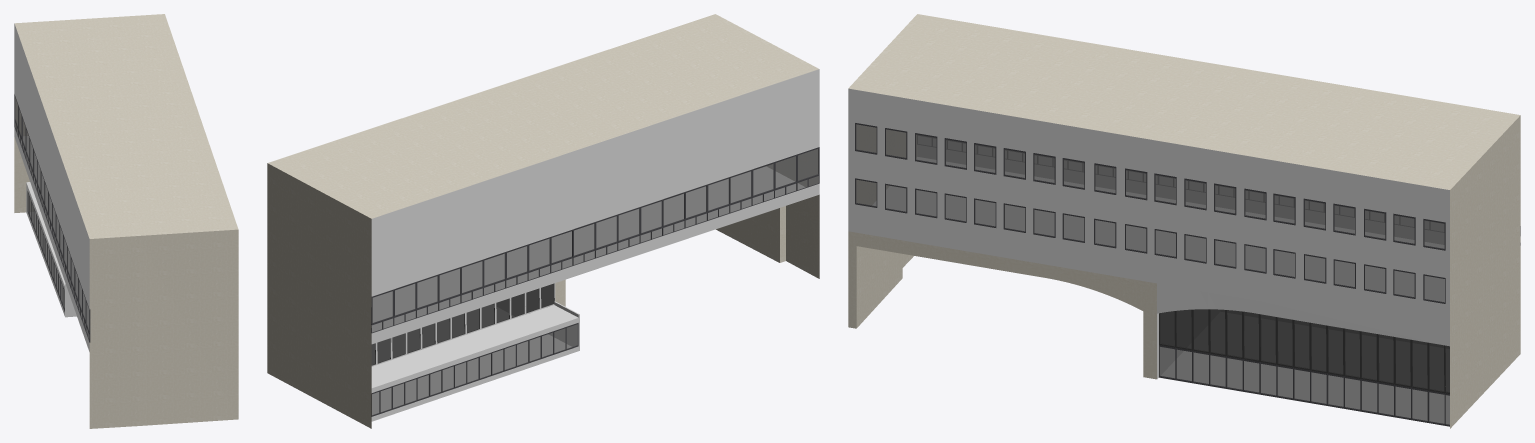
Rendered from DEBY_LOD3_4959462.obj.
The picture shows the model from 3 angles, left to right: view 1: azimuth 30°, elevation 25°; view 2: azimuth 150°, elevation 25°; view 3: azimuth 270°, elevation 25°; orthographic projection. The views are drawn at different scales.
Visible parts, largest first — view 1: Mesh128 Group1 Model; view 2: Mesh128 Group1 Model, Mesh56 Group57 Group1 Model, Mesh25 Group26 Group1 Model, Mesh40 Group41 Group1 Model, Mesh55 Group56 Group1 Model, Mesh71 Group72 Group1 Model, Mesh18 Group19 Group1 Model, Mesh30 Group31 Group1 Model, Mesh31 Group32 Group1 Model, Mesh72 Group73 Group1 Model, Mesh76 Group77 Group1 Model, Mesh77 Group78 Group1 Model (+9 smaller); view 3: Mesh128 Group1 Model, Mesh1 Group2 Group1 Model, Mesh74 Group75 Group1 Model, Mesh78 Group79 Group1 Model, Mesh100 Group101 Group1 Model, Mesh98 Group99 Group1 Model, Mesh97 Group98 Group1 Model, Mesh102 Group103 Group1 Model, Mesh3 Group4 Group1 Model, Mesh101 Group102 Group1 Model, Mesh111 Group112 Group1 Model, Mesh4 Group5 Group1 Model (+25 smaller).
Boxes of the visible parts, x1,y1,x2,y2 form: Mesh128 Group1 Model: [14, 14, 238, 428]; Mesh128 Group1 Model: [267, 14, 819, 428]; Mesh56 Group57 Group1 Model: [774, 154, 797, 198]; Mesh25 Group26 Group1 Model: [461, 259, 483, 303]; Mesh40 Group41 Group1 Model: [506, 244, 528, 288]; Mesh55 Group56 Group1 Model: [551, 229, 573, 273]; Mesh71 Group72 Group1 Model: [685, 184, 707, 228]; Mesh18 Group19 Group1 Model: [483, 252, 505, 295]; Mesh30 Group31 Group1 Model: [707, 177, 729, 220]; Mesh31 Group32 Group1 Model: [730, 169, 752, 213]; Mesh72 Group73 Group1 Model: [618, 207, 640, 250]; Mesh76 Group77 Group1 Model: [595, 214, 617, 258]; Mesh77 Group78 Group1 Model: [439, 267, 461, 310]; Mesh128 Group1 Model: [848, 14, 1520, 428]; Mesh1 Group2 Group1 Model: [1276, 317, 1293, 367]; Mesh74 Group75 Group1 Model: [1394, 337, 1411, 387]; Mesh78 Group79 Group1 Model: [1360, 331, 1377, 381]; Mesh100 Group101 Group1 Model: [1293, 320, 1310, 370]; Mesh98 Group99 Group1 Model: [1377, 334, 1394, 384]; Mesh97 Group98 Group1 Model: [1411, 340, 1428, 390]; Mesh102 Group103 Group1 Model: [1310, 322, 1327, 373]; Mesh3 Group4 Group1 Model: [1259, 314, 1276, 364]; Mesh101 Group102 Group1 Model: [1428, 342, 1445, 393]; Mesh111 Group112 Group1 Model: [1327, 325, 1343, 376]; Mesh4 Group5 Group1 Model: [1243, 311, 1259, 361].
Bounding box in the file's own units: 24.28 × 15.34 × 39.17.
